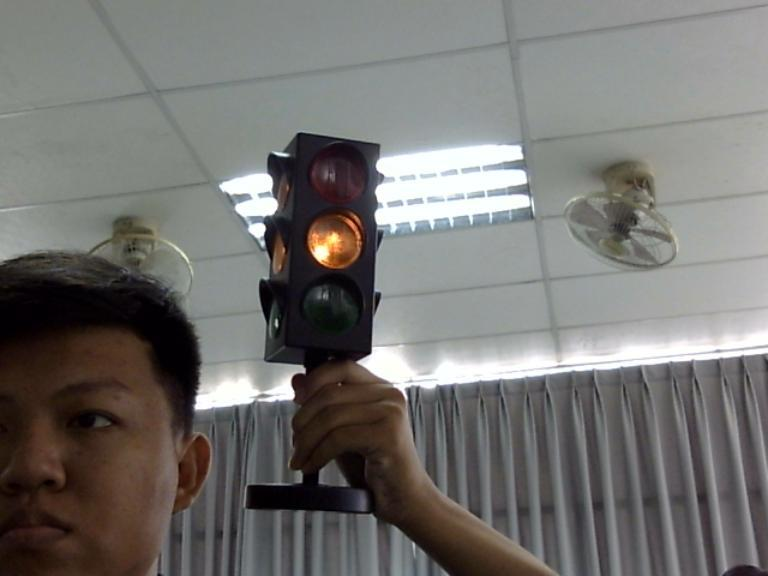yellow: (298, 204, 370, 277)
